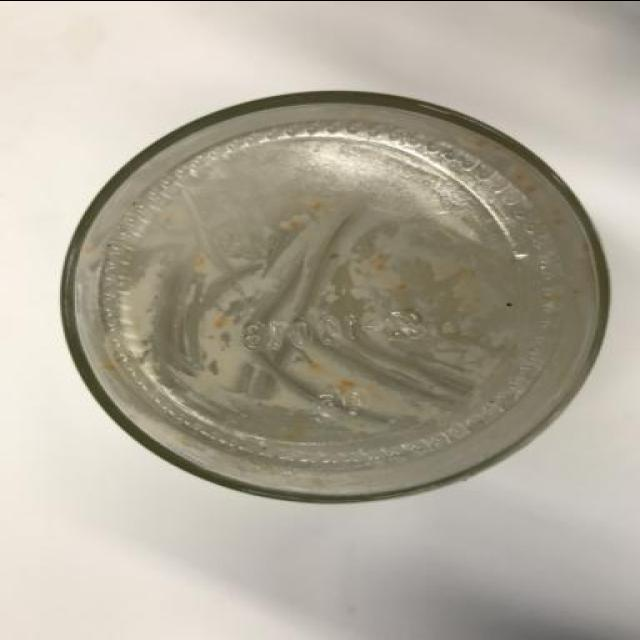glass: (44, 84, 640, 516)
